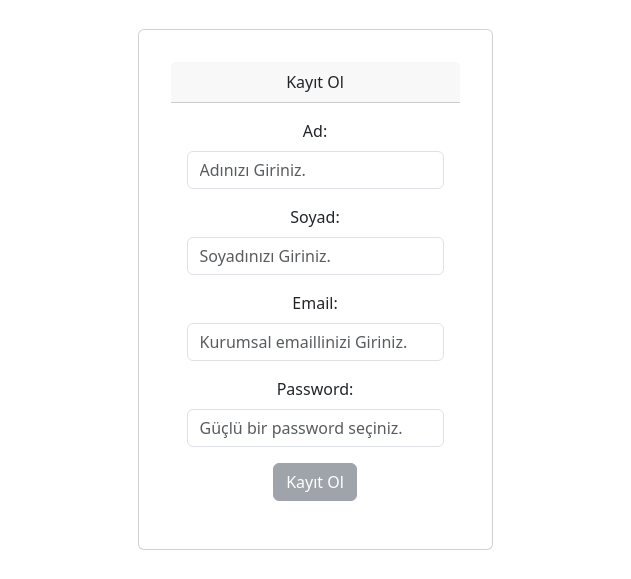
Test: Form Page › Form Page › Password input throws error for 1234
This screenshot has width=631, height=579.
Type "1234" into the password field with test id "password-input" at (316, 428), box [187,409,444,447]
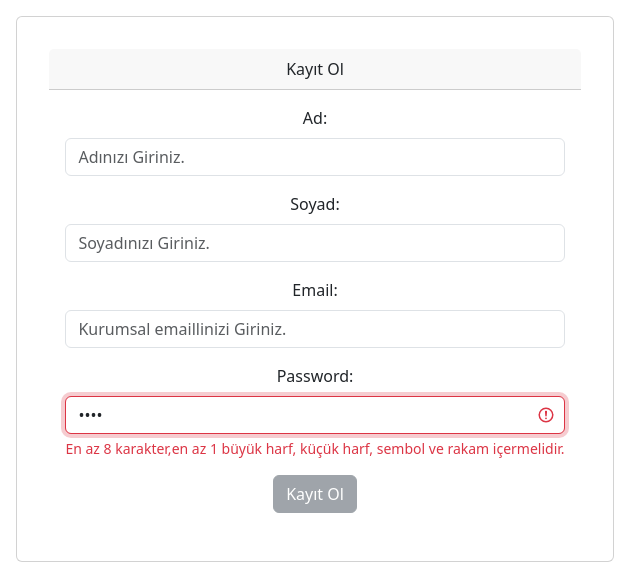
Now the text "En az 8 karakter,en az 1 büyük harf, küçük harf, sembol ve rakam içermelidir. " is shown, box [65,438,564,459]
